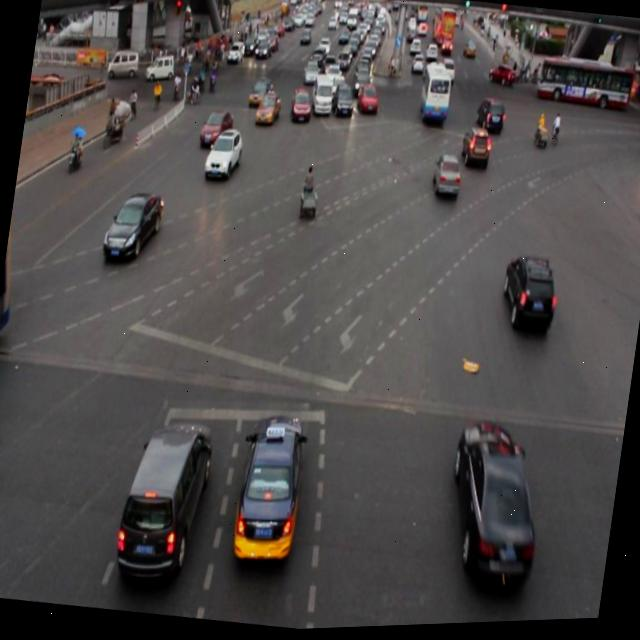car: (440, 420, 550, 592), (228, 408, 312, 572), (498, 254, 560, 342), (104, 188, 164, 262), (203, 128, 243, 183), (198, 107, 236, 151), (459, 128, 493, 175), (431, 155, 464, 203), (474, 99, 506, 141), (253, 90, 282, 130), (330, 84, 357, 124), (287, 88, 313, 126), (355, 84, 380, 119), (248, 78, 273, 111)
truck: (114, 413, 216, 591), (308, 75, 337, 123)
van: (416, 65, 454, 128)
